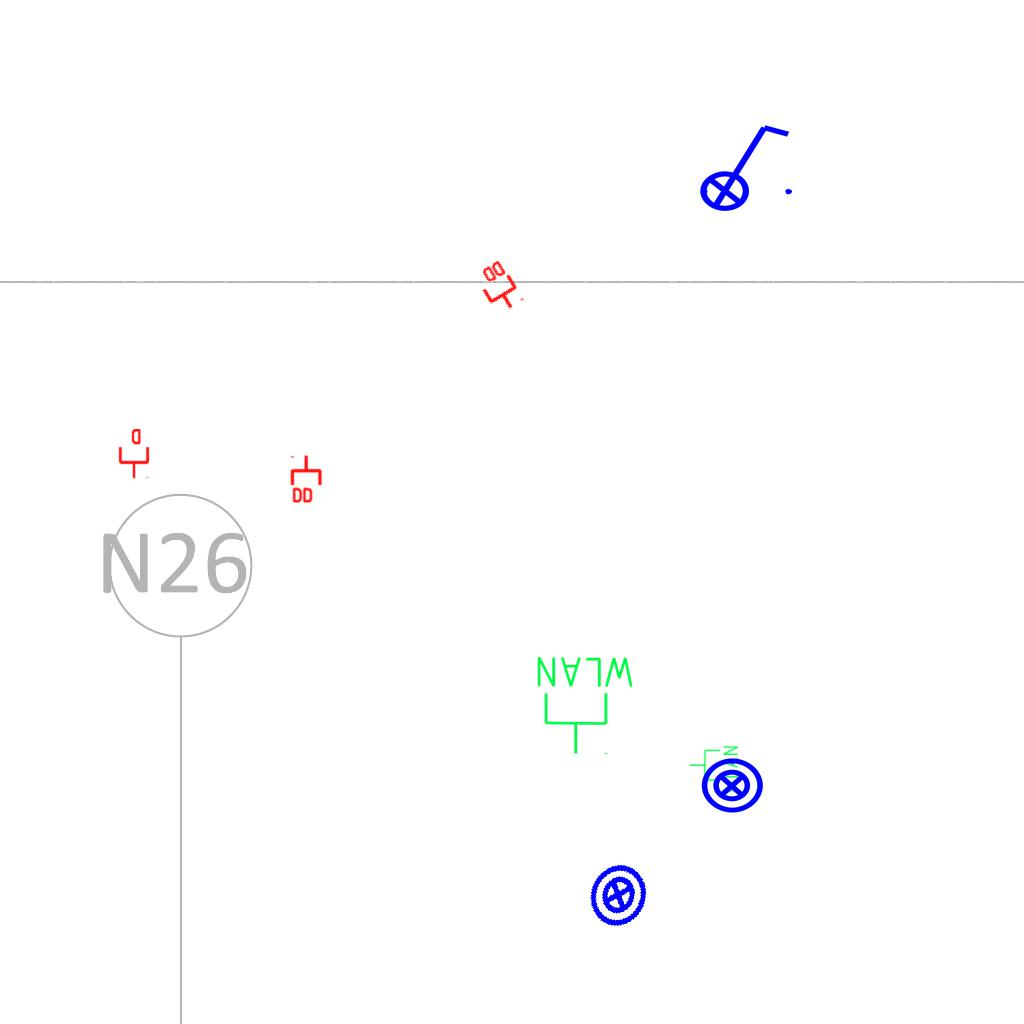Ausschalter_beleuchtet: (686, 117, 798, 213)
Datenanschluss_einfach: (117, 429, 151, 479)
Datenanschluss_zweifach: (470, 256, 526, 319), (290, 454, 324, 505)
Taster_beleuchtet: (575, 852, 661, 938), (699, 753, 765, 819)
WLAN: (533, 653, 638, 757), (688, 744, 740, 796)
